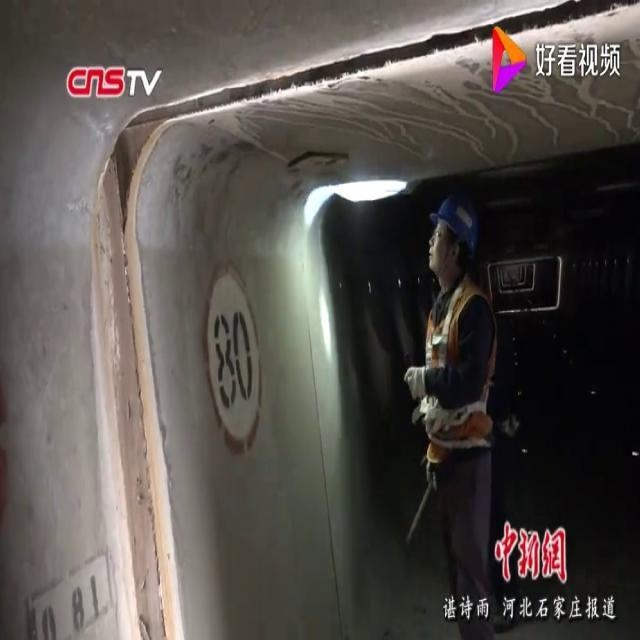Arnes_seguridad: (420, 278, 492, 435)
